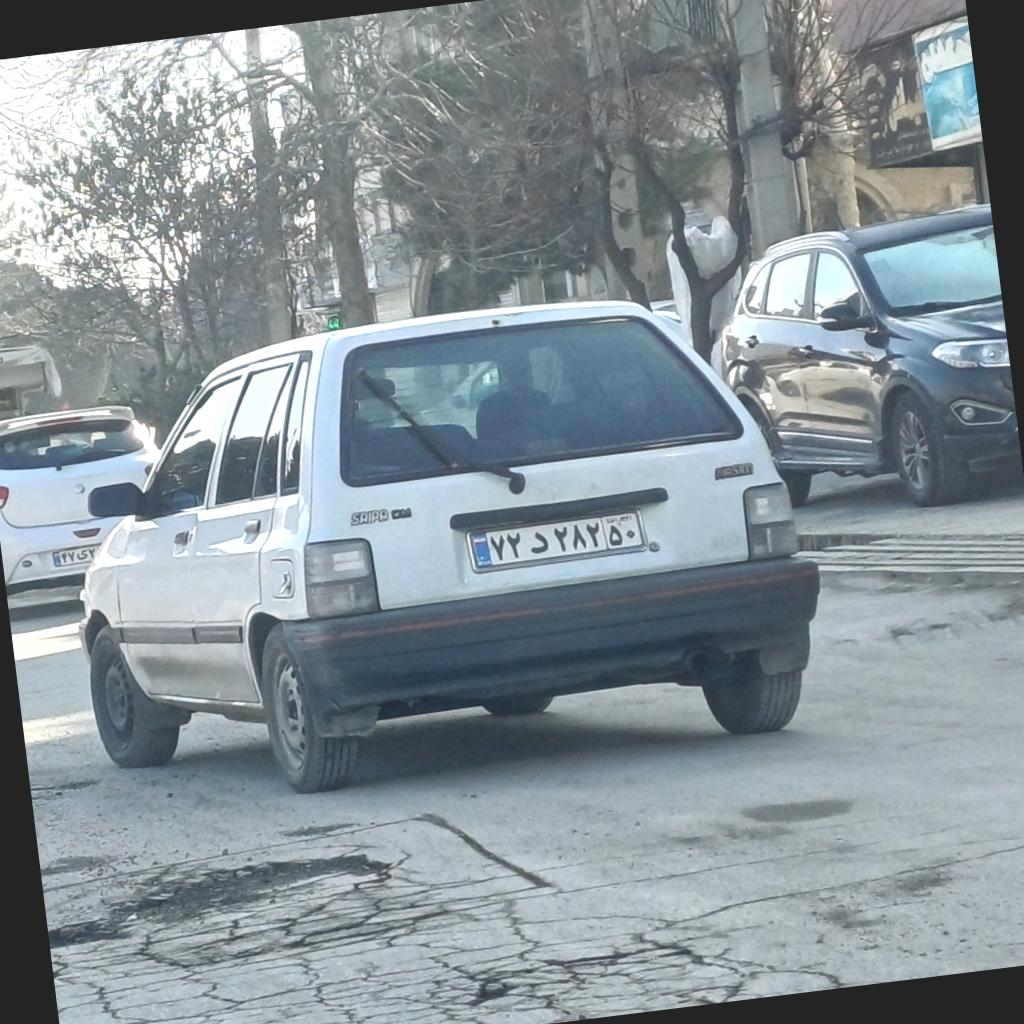Plates: (467, 508, 644, 568)
